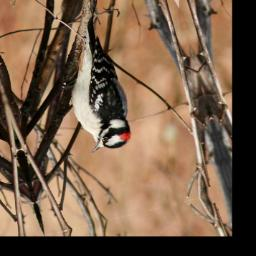Woodpecker: (45, 12, 139, 157)
